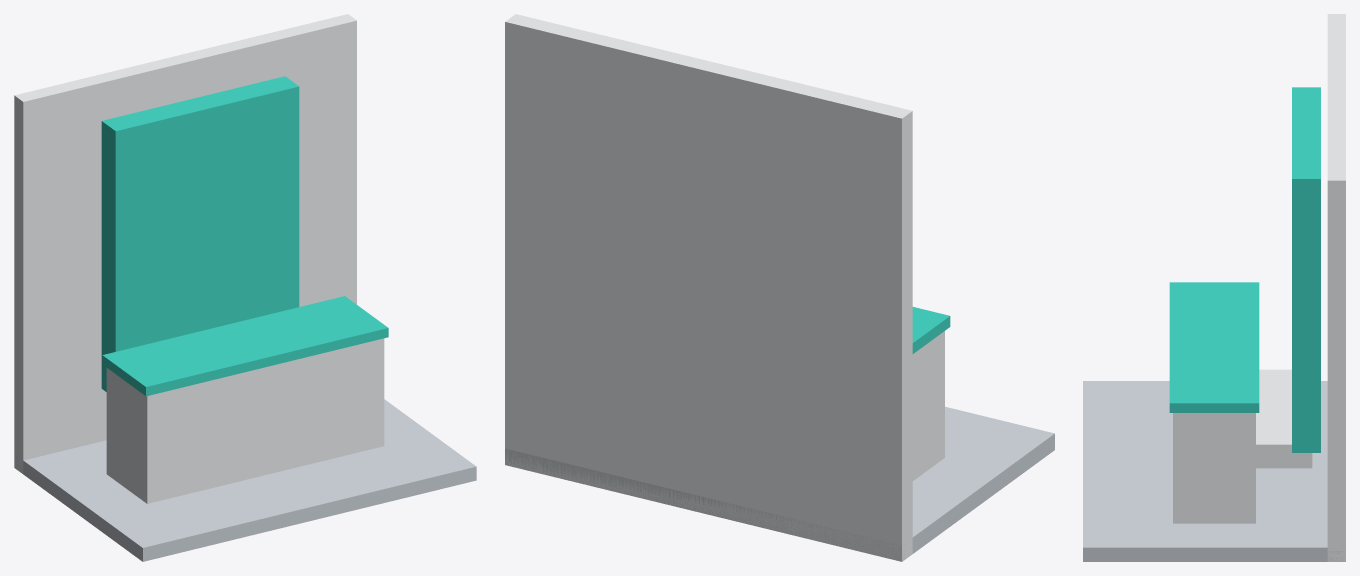
3 renders of one model, left to right at view 1: azimuth 30°, elevation 25°; view 2: azimuth 150°, elevation 25°; view 3: azimuth 270°, elevation 25°, orthographic. The views are drawn at different scales.
Visible parts, largest first — view 1: Exhibition Booth Concept; view 2: Exhibition Booth Concept; view 3: Exhibition Booth Concept.
Part boxes in pixels (box(x1,y1,x2,y2)): Exhibition Booth Concept: box(14, 14, 476, 561); Exhibition Booth Concept: box(505, 14, 1054, 561); Exhibition Booth Concept: box(1083, 14, 1345, 561).
Bounding box in the file's own units: 3 × 3.2 × 2.
